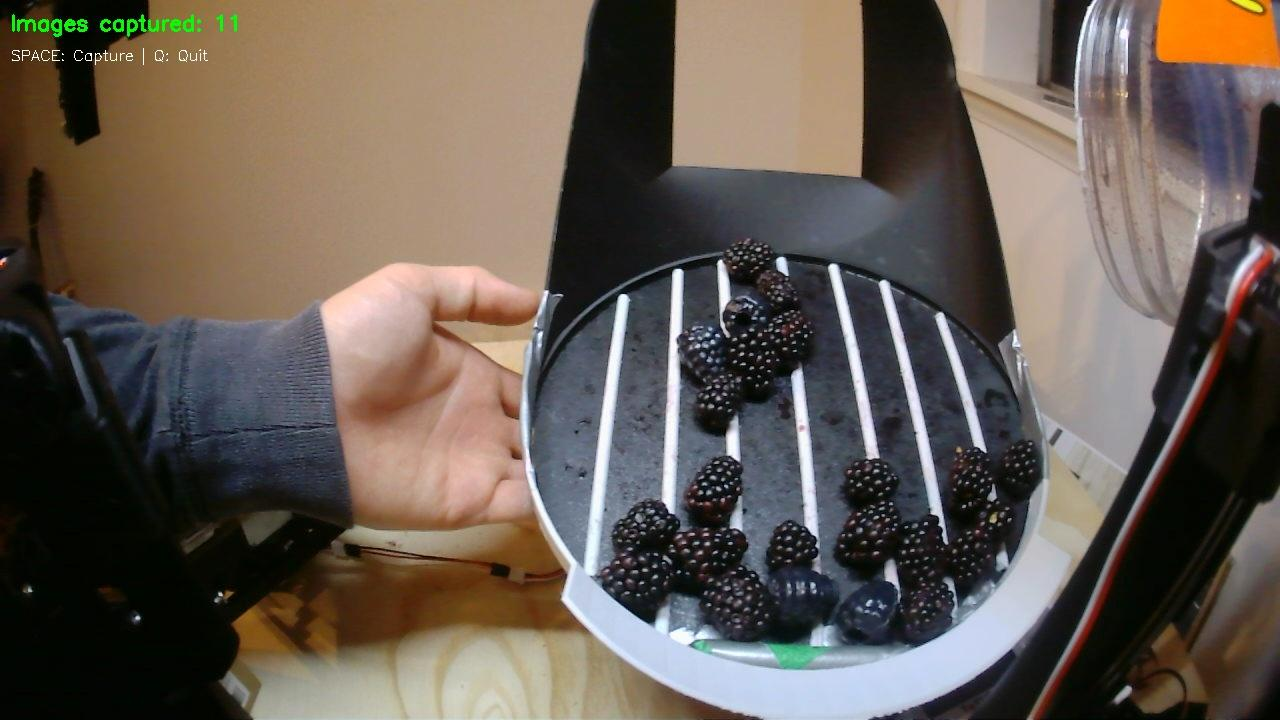berry: (700, 565, 777, 640), (597, 550, 672, 620), (665, 527, 748, 590), (834, 500, 900, 566), (768, 566, 838, 628), (684, 455, 742, 526), (834, 580, 898, 644), (895, 514, 945, 588), (612, 499, 679, 552), (729, 329, 779, 398), (900, 580, 953, 643), (946, 526, 993, 593), (949, 447, 992, 518), (677, 323, 727, 384), (767, 309, 813, 371), (995, 439, 1042, 499), (842, 458, 899, 507), (694, 374, 741, 433), (766, 520, 818, 570), (723, 238, 776, 283), (721, 291, 772, 335), (756, 268, 798, 310), (977, 498, 1014, 538)
